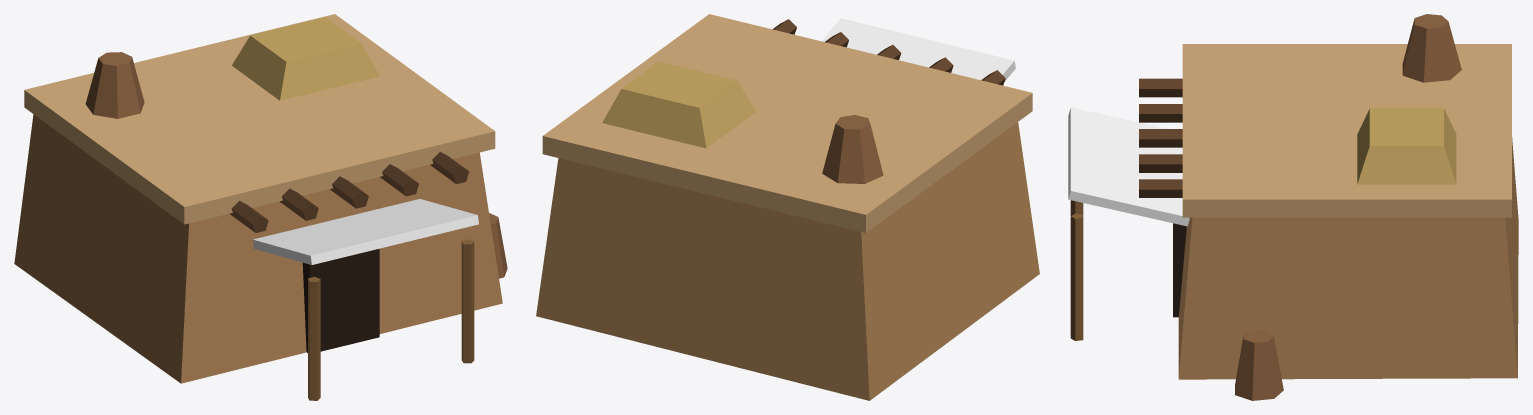
Rendered from hut.glb.
The picture shows the model from 3 angles, left to right: view 1: azimuth 30°, elevation 25°; view 2: azimuth 150°, elevation 25°; view 3: azimuth 270°, elevation 25°; orthographic projection. The views are drawn at different scales.
Parts seen in each view (by area): view 1: part, part.001, part.011, part.008, part.002, part.012, part.010, part.009, part.003, part.005, part.006, part.004 (+2 smaller); view 2: part, part.001, part.011, part.008, part.012; view 3: part, part.001, part.008, part.011, part.012, part.013, part.010, part.002, part.003, part.004, part.005, part.006 (+1 smaller).
Part boxes in pixels (box(x1,y1,x2,y2)): part: box(14, 114, 502, 383); part.001: box(24, 14, 495, 224); part.011: box(232, 17, 379, 100); part.008: box(252, 199, 478, 264); part.002: box(302, 248, 379, 352); part.012: box(85, 52, 144, 118); part.010: box(461, 239, 474, 363); part.009: box(308, 276, 320, 400); part.003: box(230, 200, 268, 232); part.005: box(330, 176, 368, 208); part.006: box(380, 164, 418, 196); part.004: box(280, 188, 318, 220); part: box(536, 122, 1039, 400); part.001: box(542, 14, 1032, 232); part.011: box(602, 61, 756, 148); part.008: box(821, 18, 1015, 80); part.012: box(822, 115, 883, 183); part: box(1178, 137, 1518, 379); part.001: box(1182, 44, 1511, 217); part.008: box(1068, 107, 1189, 226); part.011: box(1357, 108, 1456, 184); part.012: box(1402, 14, 1461, 82); part.013: box(1235, 330, 1283, 400); part.010: box(1070, 213, 1083, 340); part.002: box(1173, 223, 1186, 317); part.003: box(1139, 78, 1182, 97); part.004: box(1139, 104, 1182, 122); part.005: box(1139, 129, 1182, 147); part.006: box(1139, 154, 1182, 172).
Bounding box in the file's own units: 2.18 × 1.27 × 2.27.
